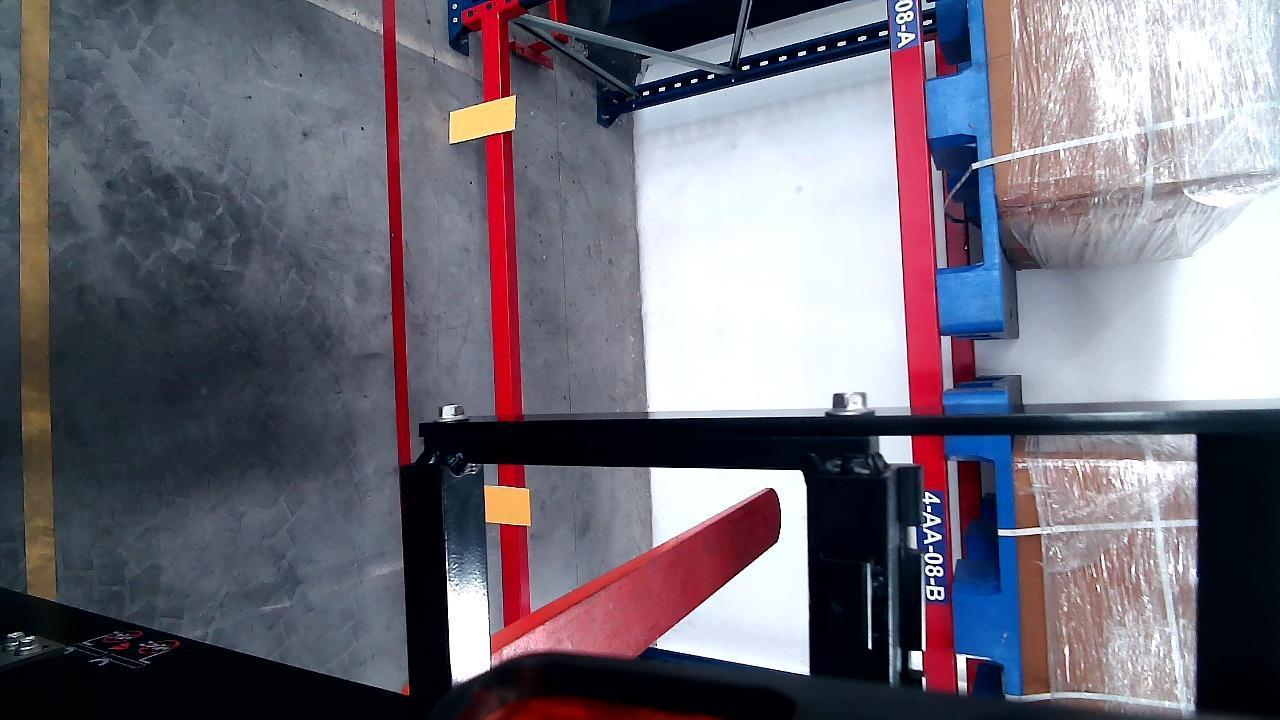h_rack: (885, 0, 951, 693), (481, 18, 528, 631)
orange_strip: (448, 96, 516, 141), (485, 485, 530, 525)
red_line: (382, 0, 413, 453)
small_pallet: (923, 0, 1008, 332), (947, 412, 1021, 704)
yellow_line: (18, 3, 55, 602)
